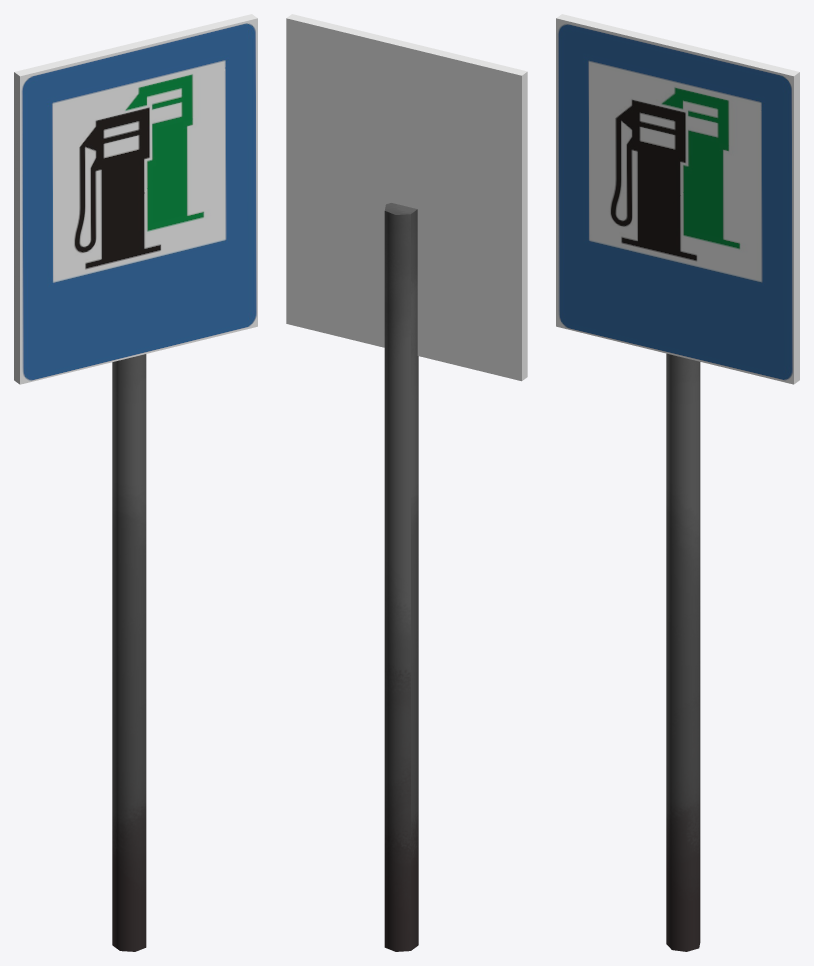
The model's file is st_paliw.FBX.
3 renders of one model, left to right at view 1: azimuth 30°, elevation 25°; view 2: azimuth 150°, elevation 25°; view 3: azimuth 330°, elevation 25°, orthographic.
Visible parts, largest first — view 1: Box001, Cylinder001; view 2: Box001, Cylinder001; view 3: Box001, Cylinder001.
Boxes of the visible parts, bbox=[...] form: Box001: bbox=[14, 14, 257, 384]; Cylinder001: bbox=[112, 354, 146, 951]; Box001: bbox=[286, 14, 527, 381]; Cylinder001: bbox=[384, 203, 418, 951]; Box001: bbox=[556, 14, 799, 384]; Cylinder001: bbox=[666, 353, 700, 951].
Size of the model in its own units: 467 by 1696 by 59.66.
